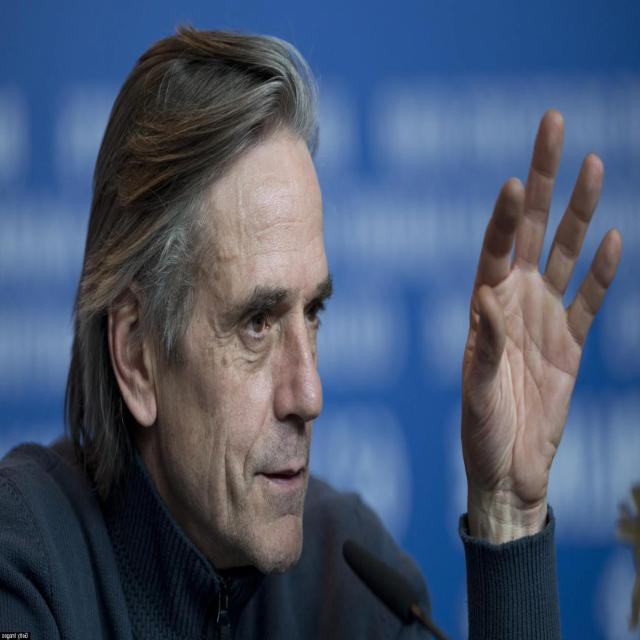no-earmuff: (106, 276, 158, 426)
